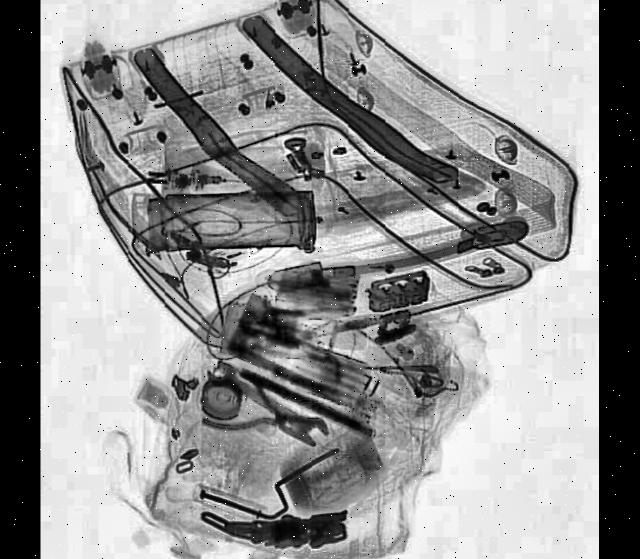Pliers: (202, 359, 312, 462)
Wrench: (210, 355, 335, 458)
